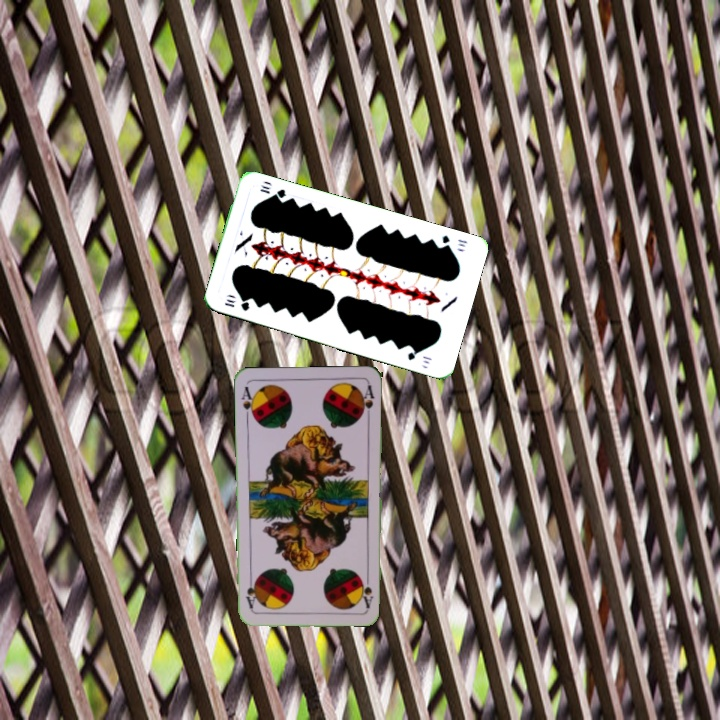G10: (437, 231, 470, 252), (221, 295, 252, 313)
SA: (237, 382, 257, 423), (361, 569, 376, 610)
